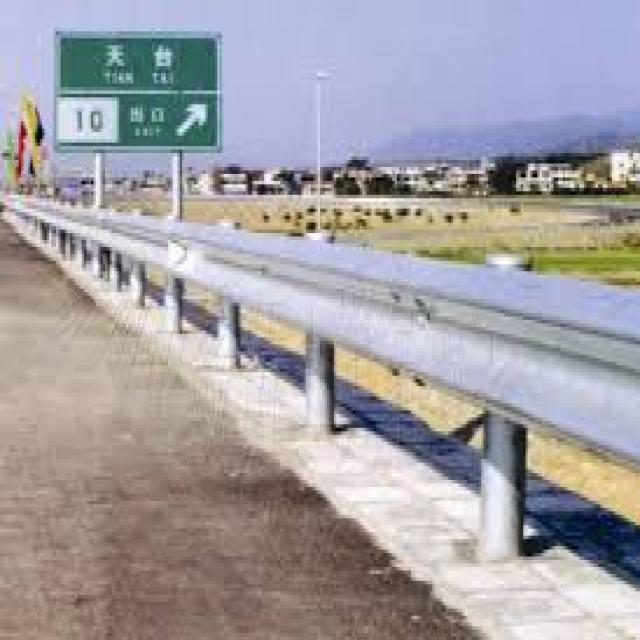Guard rail: (0, 187, 640, 594)
